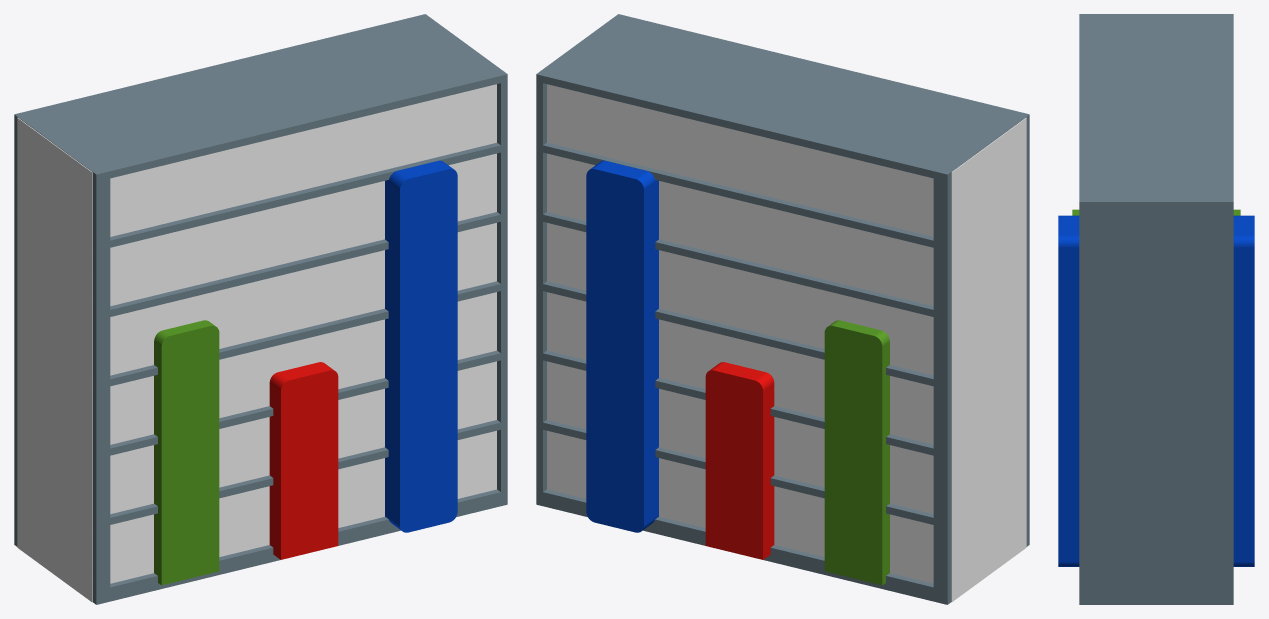
3 renders of one model, left to right at view 1: azimuth 30°, elevation 25°; view 2: azimuth 150°, elevation 25°; view 3: azimuth 270°, elevation 25°, orthographic. The views are drawn at different scales.
Visible parts, largest first — view 1: U+1F4CA_layer00_obj00, U+1F4CA_layer01_obj02, U+1F4CA_layer04_obj00, U+1F4CA_layer02_obj00, U+1F4CA_layer03_obj00, U+1F4CA_layer01_obj06, U+1F4CA_layer01_obj00, U+1F4CA_layer01_obj01, U+1F4CA_layer01_obj05, U+1F4CA_layer01_obj03, U+1F4CA_layer01_obj04; view 2: U+1F4CA_layer00_obj00, U+1F4CA_layer01_obj02, U+1F4CA_layer04_obj00, U+1F4CA_layer02_obj00, U+1F4CA_layer03_obj00, U+1F4CA_layer01_obj06, U+1F4CA_layer01_obj00, U+1F4CA_layer01_obj01, U+1F4CA_layer01_obj05, U+1F4CA_layer01_obj03, U+1F4CA_layer01_obj04; view 3: U+1F4CA_layer01_obj02, U+1F4CA_layer04_obj00, U+1F4CA_layer01_obj06.
Boxes of the visible parts, <box> form: U+1F4CA_layer00_obj00: <box>17,84,496,602</box>; U+1F4CA_layer01_obj02: <box>14,14,507,604</box>; U+1F4CA_layer04_obj00: <box>385,160,457,532</box>; U+1F4CA_layer02_obj00: <box>154,320,219,585</box>; U+1F4CA_layer03_obj00: <box>269,362,338,559</box>; U+1F4CA_layer01_obj06: <box>16,111,507,604</box>; U+1F4CA_layer01_obj00: <box>101,142,507,249</box>; U+1F4CA_layer01_obj01: <box>101,212,507,319</box>; U+1F4CA_layer01_obj05: <box>101,281,505,388</box>; U+1F4CA_layer01_obj03: <box>100,350,507,457</box>; U+1F4CA_layer01_obj04: <box>100,420,507,526</box>; U+1F4CA_layer00_obj00: <box>547,84,1026,602</box>; U+1F4CA_layer01_obj02: <box>536,14,1029,604</box>; U+1F4CA_layer04_obj00: <box>586,160,658,532</box>; U+1F4CA_layer02_obj00: <box>824,320,889,585</box>; U+1F4CA_layer03_obj00: <box>705,362,774,559</box>; U+1F4CA_layer01_obj06: <box>536,111,1028,604</box>; U+1F4CA_layer01_obj00: <box>536,142,942,249</box>; U+1F4CA_layer01_obj01: <box>536,212,942,319</box>; U+1F4CA_layer01_obj05: <box>536,281,942,388</box>; U+1F4CA_layer01_obj03: <box>537,350,943,457</box>; U+1F4CA_layer01_obj04: <box>536,420,943,524</box>; U+1F4CA_layer01_obj02: <box>1079,14,1233,604</box>; U+1F4CA_layer04_obj00: <box>1058,215,1254,566</box>; U+1F4CA_layer01_obj06: <box>1079,14,1233,604</box>.
Size of the model in its own units: 0.318 by 0.3174 by 0.14.
